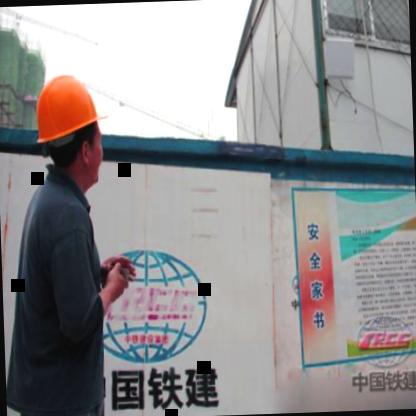helmet: (29, 58, 109, 200)
